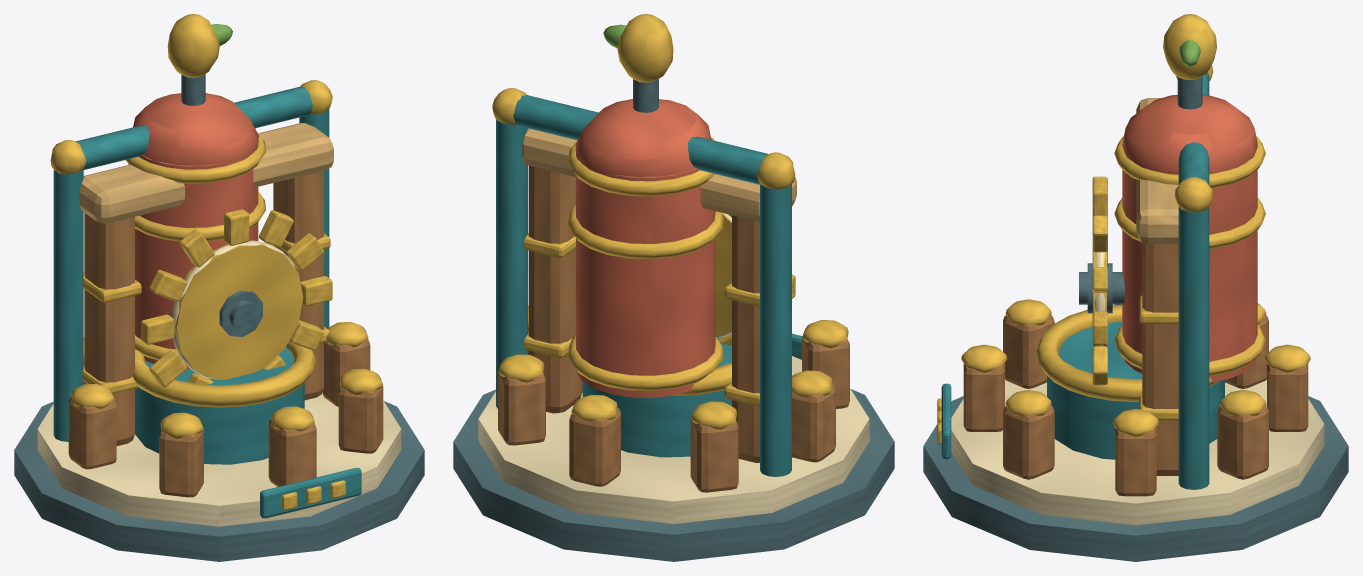
File: monument-stage-3.glb
The picture shows the model from 3 angles, left to right: view 1: azimuth 30°, elevation 25°; view 2: azimuth 150°, elevation 25°; view 3: azimuth 270°, elevation 25°; orthographic projection. The views are drawn at different scales.
Parts seen in each view (by area): view 1: monument-stage-3-body, flywheel; view 2: monument-stage-3-body, flywheel; view 3: monument-stage-3-body, flywheel.
Part boxes in pixels (<box>): monument-stage-3-body: <box>14,14,424,561</box>; flywheel: <box>141,209,332,387</box>; monument-stage-3-body: <box>453,14,894,561</box>; flywheel: <box>715,212,795,345</box>; monument-stage-3-body: <box>923,14,1348,561</box>; flywheel: <box>1087,176,1112,385</box>.
Bounding box in the file's own units: 4.4 × 5.21 × 4.4.
Materials: 1 (1 with a texture image).
